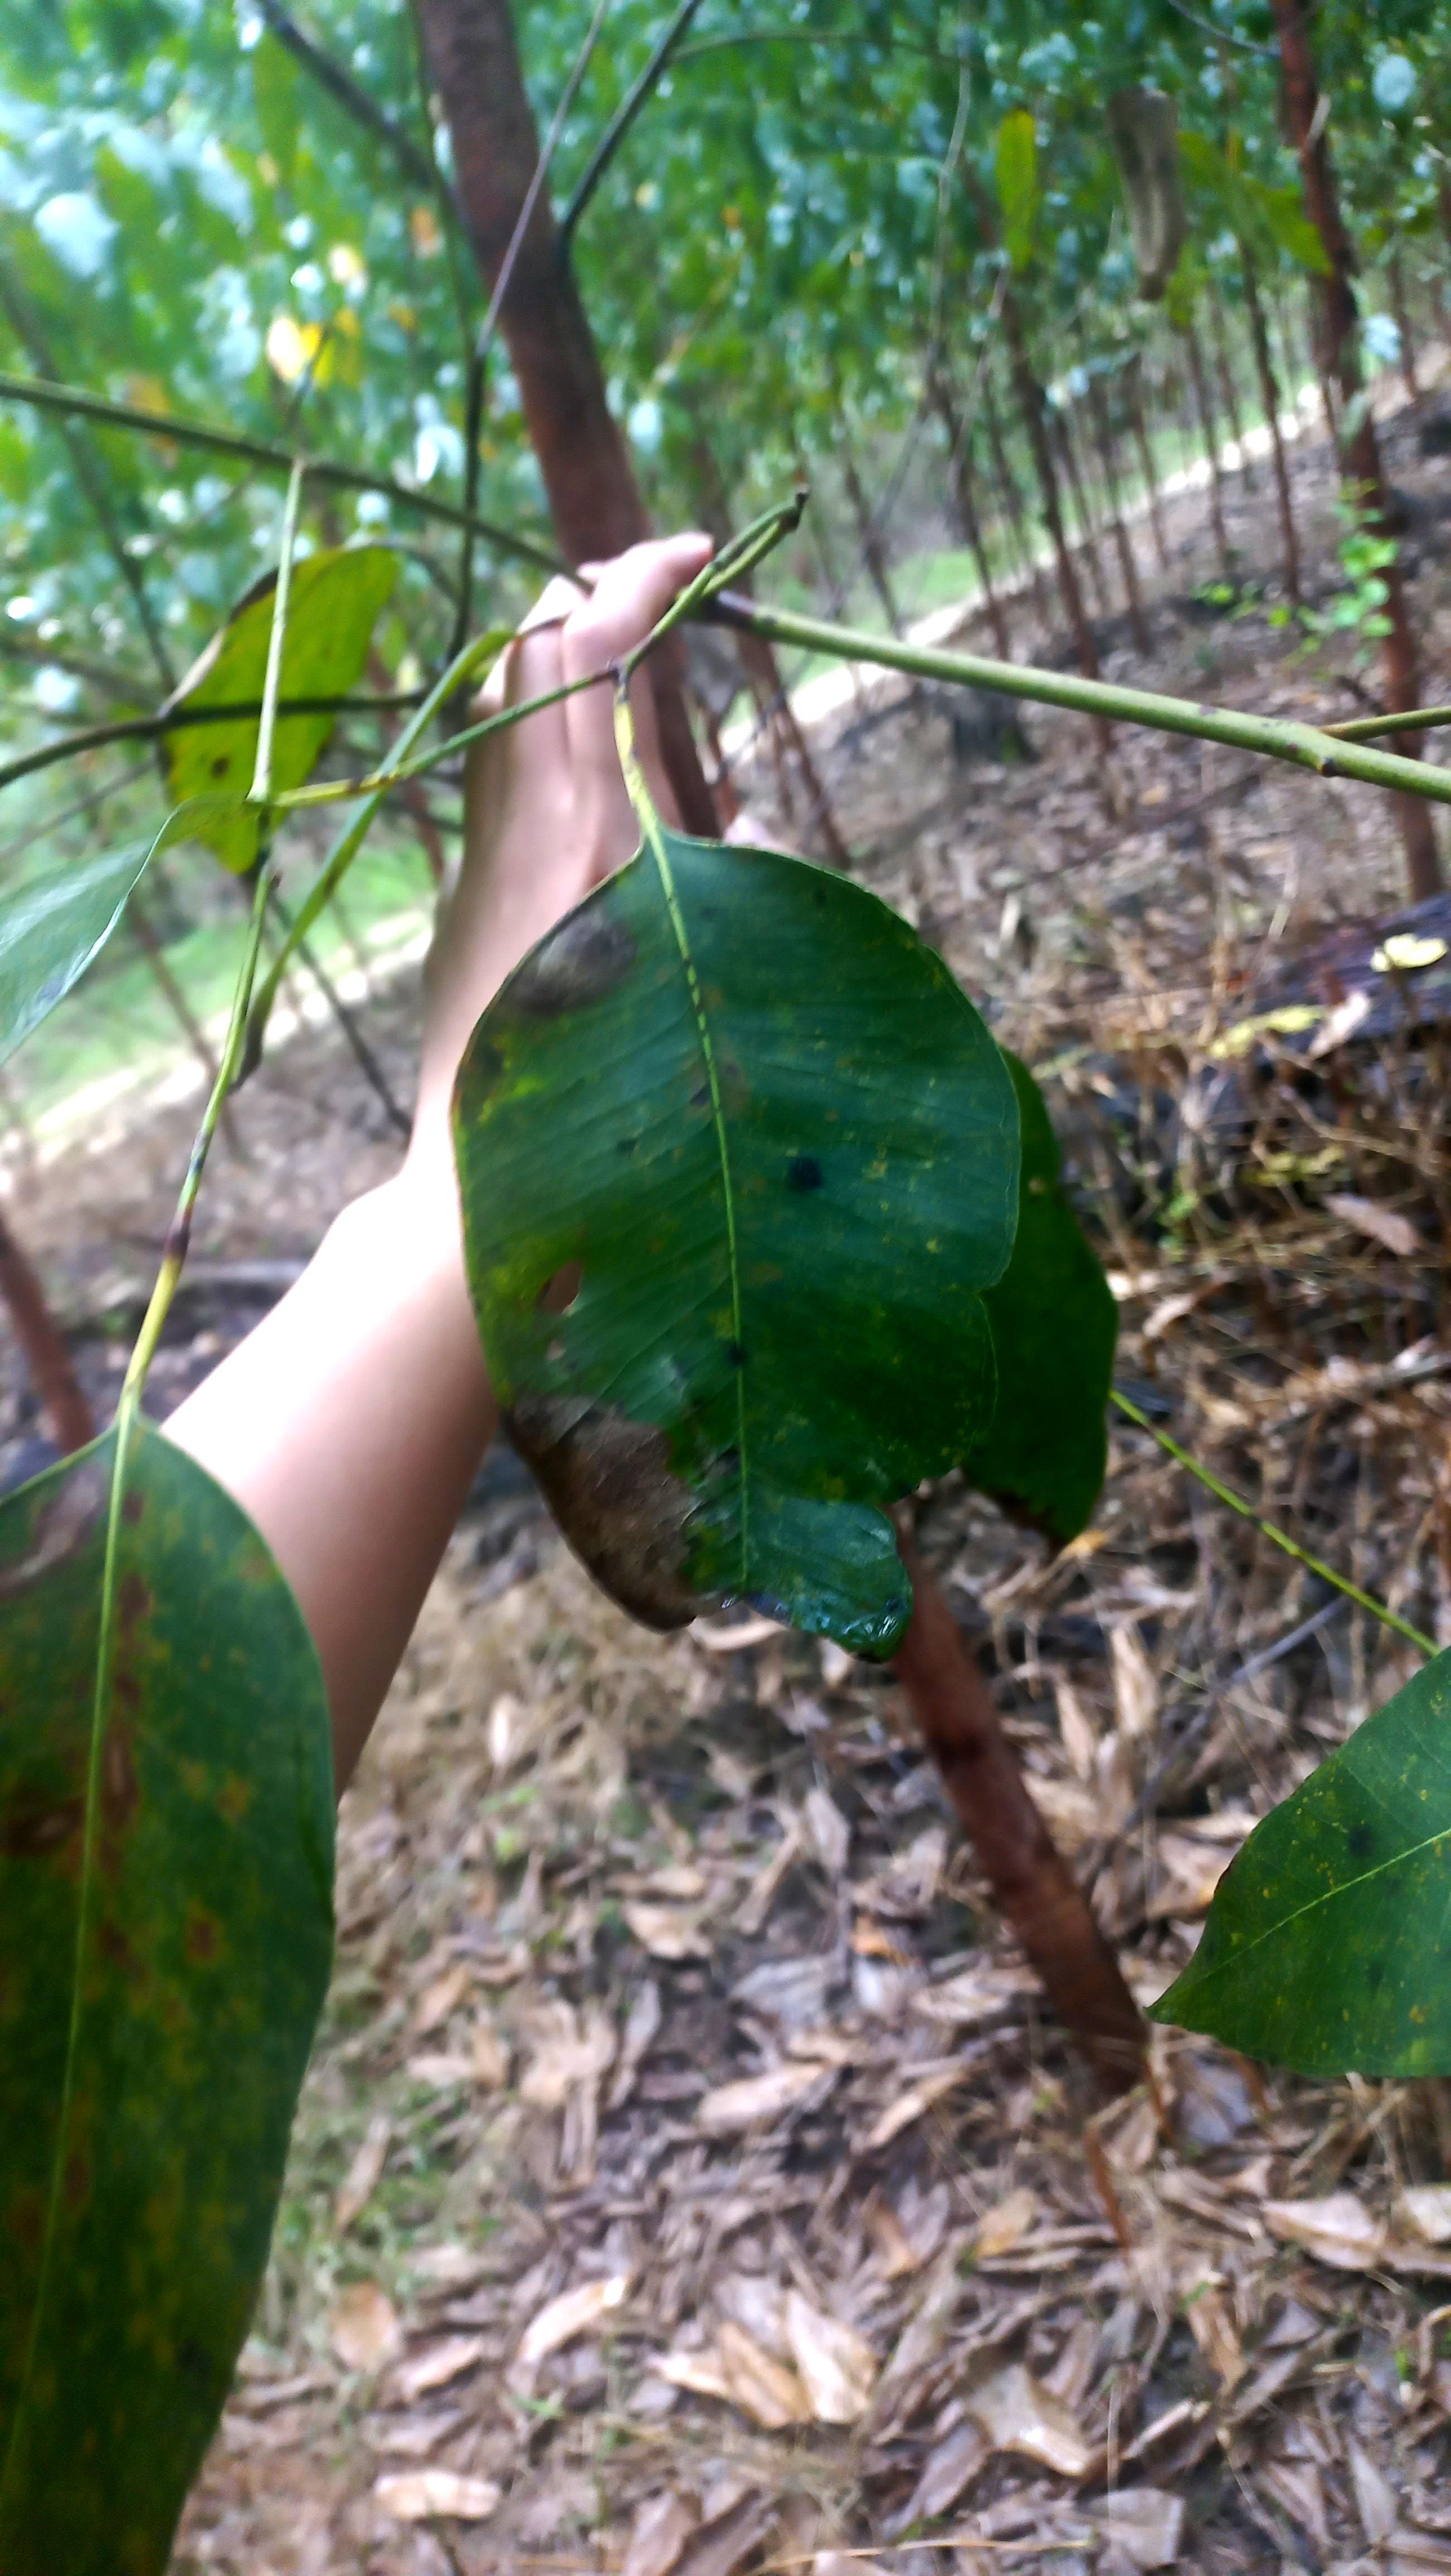Cylindrocladium: (506, 1394, 710, 1661), (503, 886, 648, 1039)
Embun Jelaga: (706, 832, 996, 1435)
